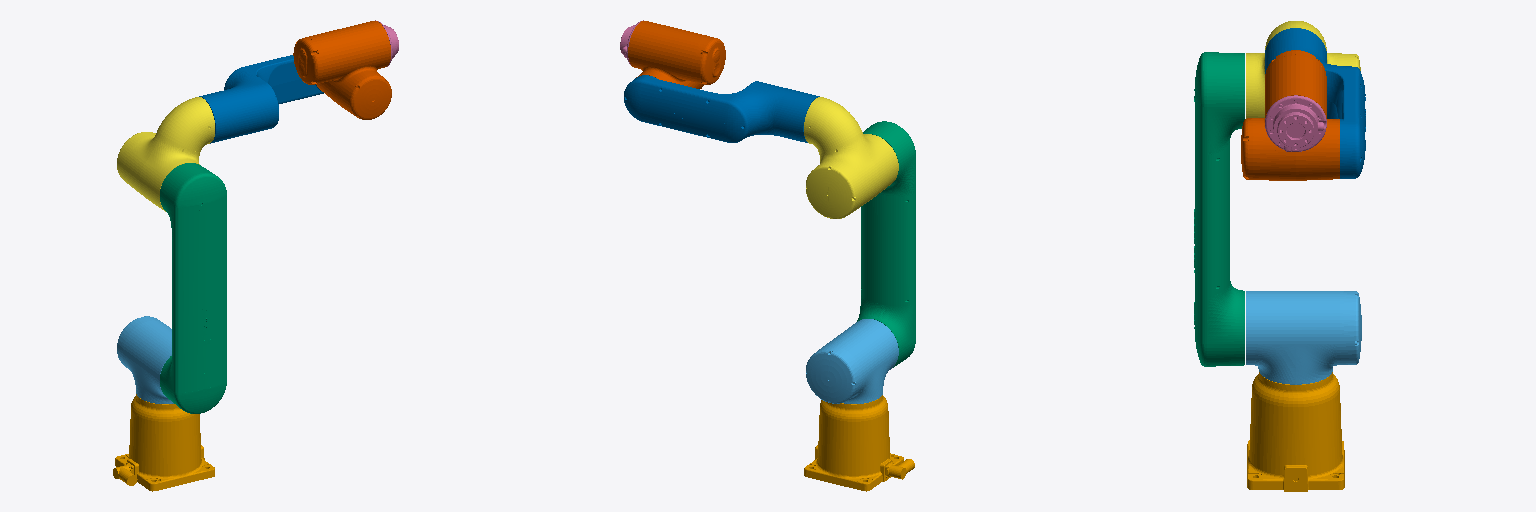
robot.urdf — CRB15000_5kg-950:
<?xml version="1.0" ?>
<robot name="CRB15000_5kg-950">

  <link name="base_link">
    <inertial>
      <origin xyz="-0.0012014538056427894 -0.0001751781553540673 0.08621477256851826" rpy="0 0 0"/>
      <mass value="27.481465640207425"/>
      <inertia ixx="0.120116" iyy="0.125077" izz="0.088047" ixy="-0.000503" iyz="-0.000312" ixz="-0.002172"/>
    </inertial>
    <visual>
      <origin xyz="0 0 0" rpy="0 0 0"/>
      <geometry>
        <mesh filename="package://CRB15000_5kg-950_description/meshes/base_link.stl" scale="0.001 0.001 0.001"/>
      </geometry>
      <material name="silver"/>
    </visual>
    <collision>
      <origin xyz="0 0 0" rpy="0 0 0"/>
      <geometry>
        <mesh filename="package://CRB15000_5kg-950_description/meshes/base_link.stl" scale="0.001 0.001 0.001"/>
      </geometry>
    </collision>
    </link>

  <link name="link_1_1">
    <inertial>
      <origin xyz="-7.746834366601395e-08 0.010362421131137462 0.06952957358252931" rpy="0 0 0"/>
      <mass value="21.72390566115484"/>
      <inertia ixx="0.090397" iyy="0.050984" izz="0.085916" ixy="-0.0" iyz="-0.001544" ixz="-0.0"/>
    </inertial>
    <visual>
      <origin xyz="-0.0 -0.0 -0.1885" rpy="0 0 0"/>
      <geometry>
        <mesh filename="package://CRB15000_5kg-950_description/meshes/link_1_1.stl" scale="0.001 0.001 0.001"/>
      </geometry>
      <material name="silver"/>
    </visual>
    <collision>
      <origin xyz="-0.0 -0.0 -0.1885" rpy="0 0 0"/>
      <geometry>
        <mesh filename="package://CRB15000_5kg-950_description/meshes/link_1_1.stl" scale="0.001 0.001 0.001"/>
      </geometry>
    </collision>
    </link>

  <link name="link_2_1">
    <inertial>
      <origin xyz="2.1392455886037183e-07 -0.05000931254700587 0.22199307110548416" rpy="0 0 0"/>
      <mass value="33.66814621553652"/>
      <inertia ixx="1.024636" iyy="1.04625" izz="0.052503" ixy="0.0" iyz="-8e-06" ixz="-0.0"/>
    </inertial>
    <visual>
      <origin xyz="0.0 0.085 -0.265" rpy="0 0 0"/>
      <geometry>
        <mesh filename="package://CRB15000_5kg-950_description/meshes/link_2_1.stl" scale="0.001 0.001 0.001"/>
      </geometry>
      <material name="silver"/>
    </visual>
    <collision>
      <origin xyz="0.0 0.085 -0.265" rpy="0 0 0"/>
      <geometry>
        <mesh filename="package://CRB15000_5kg-950_description/meshes/link_2_1.stl" scale="0.001 0.001 0.001"/>
      </geometry>
    </collision>
    </link>

  <link name="link_3_1">
    <inertial>
      <origin xyz="0.012812810727324556 0.09441702109200067 0.024740268053319525" rpy="0 0 0"/>
      <mass value="26.559534737331685"/>
      <inertia ixx="0.137869" iyy="0.110083" izz="0.10421" ixy="0.002864" iyz="0.005532" ixz="-0.025016"/>
    </inertial>
    <visual>
      <origin xyz="-0.0 0.086 -0.709" rpy="0 0 0"/>
      <geometry>
        <mesh filename="package://CRB15000_5kg-950_description/meshes/link_3_1.stl" scale="0.001 0.001 0.001"/>
      </geometry>
      <material name="silver"/>
    </visual>
    <collision>
      <origin xyz="-0.0 0.086 -0.709" rpy="0 0 0"/>
      <geometry>
        <mesh filename="package://CRB15000_5kg-950_description/meshes/link_3_1.stl" scale="0.001 0.001 0.001"/>
      </geometry>
    </collision>
    </link>

  <link name="link_4_1">
    <inertial>
      <origin xyz="0.16055875884974877 0.04197687995947815 -1.9470952039579714e-07" rpy="0 0 0"/>
      <mass value="21.811589078670252"/>
      <inertia ixx="0.069214" iyy="0.267493" izz="0.305648" ixy="-0.084359" iyz="0.0" ixz="1e-06"/>
    </inertial>
    <visual>
      <origin xyz="-0.096 0.0 -0.819" rpy="0 0 0"/>
      <geometry>
        <mesh filename="package://CRB15000_5kg-950_description/meshes/link_4_1.stl" scale="0.001 0.001 0.001"/>
      </geometry>
      <material name="silver"/>
    </visual>
    <collision>
      <origin xyz="-0.096 0.0 -0.819" rpy="0 0 0"/>
      <geometry>
        <mesh filename="package://CRB15000_5kg-950_description/meshes/link_4_1.stl" scale="0.001 0.001 0.001"/>
      </geometry>
    </collision>
    </link>

  <link name="link_5_1">
    <inertial>
      <origin xyz="-0.014715042524463817 -0.07856500607442374 0.0427552269826047" rpy="0 0 0"/>
      <mass value="23.63690573076678"/>
      <inertia ixx="0.089956" iyy="0.106456" izz="0.08516" ixy="0.001414" iyz="-0.004124" ixz="0.012972"/>
    </inertial>
    <visual>
      <origin xyz="-0.47 -0.0745 -0.819" rpy="0 0 0"/>
      <geometry>
        <mesh filename="package://CRB15000_5kg-950_description/meshes/link_5_1.stl" scale="0.001 0.001 0.001"/>
      </geometry>
      <material name="silver"/>
    </visual>
    <collision>
      <origin xyz="-0.47 -0.0745 -0.819" rpy="0 0 0"/>
      <geometry>
        <mesh filename="package://CRB15000_5kg-950_description/meshes/link_5_1.stl" scale="0.001 0.001 0.001"/>
      </geometry>
    </collision>
    </link>

  <link name="link_6_1">
    <inertial>
      <origin xyz="0.013150710928741538 0.00023981661746452662 -0.0003419398620416736" rpy="0 0 0"/>
      <mass value="1.1500367477202385"/>
      <inertia ixx="0.001012" iyy="0.000597" izz="0.000601" ixy="-1e-06" iyz="-5e-06" ixz="1e-06"/>
    </inertial>
    <visual>
      <origin xyz="-0.538 -0.0 -0.899" rpy="0 0 0"/>
      <geometry>
        <mesh filename="package://CRB15000_5kg-950_description/meshes/link_6_1.stl" scale="0.001 0.001 0.001"/>
      </geometry>
      <material name="silver"/>
    </visual>
    <collision>
      <origin xyz="-0.538 -0.0 -0.899" rpy="0 0 0"/>
      <geometry>
        <mesh filename="package://CRB15000_5kg-950_description/meshes/link_6_1.stl" scale="0.001 0.001 0.001"/>
      </geometry>
    </collision>
    </link>

  <joint name="j1" type="continuous">
    <origin xyz="0.0 0.0 0.1885" rpy="0 0 0"/>
    <parent link="base_link"/>
    <child link="link_1_1"/>
    <axis xyz="0.0 0.0 -1.0"/>
    </joint>

  <joint name="j2" type="continuous">
    <origin xyz="-0.0 -0.085 0.0765" rpy="0 0 0"/>
    <parent link="link_1_1"/>
    <child link="link_2_1"/>
    <axis xyz="0.0 -1.0 0.0"/>
    </joint>

  <joint name="j3" type="continuous">
    <origin xyz="0.0 -0.001 0.444" rpy="0 0 0"/>
    <parent link="link_2_1"/>
    <child link="link_3_1"/>
    <axis xyz="0.0 -1.0 0.0"/>
    </joint>

  <joint name="j4" type="continuous">
    <origin xyz="0.096 0.086 0.11" rpy="0 0 0"/>
    <parent link="link_3_1"/>
    <child link="link_4_1"/>
    <axis xyz="1.0 0.0 0.0"/>
    </joint>

  <joint name="j5" type="continuous">
    <origin xyz="0.374 0.0745 0.0" rpy="0 0 0"/>
    <parent link="link_4_1"/>
    <child link="link_5_1"/>
    <axis xyz="0.0 -1.0 0.0"/>
    </joint>

  <joint name="j6" type="continuous">
    <origin xyz="0.068 -0.0745 0.08" rpy="0 0 0"/>
    <parent link="link_5_1"/>
    <child link="link_6_1"/>
    <axis xyz="1.0 0.0 0.0"/>
    </joint>

</robot>

--- Render facts (derived) ---
Views: 3 orthographic renders of the robot side by side, from view 1: azimuth 30°, elevation 25°; view 2: azimuth 150°, elevation 25°; view 3: azimuth 270°, elevation 25°.
Robot: CRB15000_5kg-950 — 7 links, 6 joints (6 continuous); root link base_link; default pose: all joints at 0.
Links seen in each view (by area): view 1: link_2_1, link_5_1, base_link, link_3_1, link_4_1, link_1_1; view 2: link_2_1, link_4_1, link_3_1, base_link, link_1_1, link_5_1; view 3: link_2_1, base_link, link_1_1, link_5_1, link_4_1, link_6_1, link_3_1.
Link boxes in pixels (box(x1,y1,x2,y2)): link_2_1: box(160, 163, 226, 413); link_5_1: box(293, 21, 391, 119); base_link: box(113, 394, 214, 491); link_3_1: box(117, 97, 214, 211); link_4_1: box(199, 55, 323, 143); link_1_1: box(117, 316, 173, 403); link_2_1: box(857, 121, 915, 367); link_4_1: box(624, 75, 819, 142); link_3_1: box(804, 97, 898, 218); base_link: box(804, 395, 914, 491); link_1_1: box(806, 319, 898, 403); link_5_1: box(628, 21, 725, 88); link_2_1: box(1194, 52, 1244, 366); base_link: box(1247, 372, 1344, 491); link_1_1: box(1246, 291, 1361, 384); link_5_1: box(1241, 50, 1339, 180); link_4_1: box(1265, 28, 1365, 178); link_6_1: box(1265, 95, 1326, 151); link_3_1: box(1246, 21, 1360, 118).
Size in the robot's own frame: 0.6955 by 0.2902 by 0.9517 metres.
Meshes: 7 distinct files referenced, 7 mesh visuals loaded (7 binary STL).